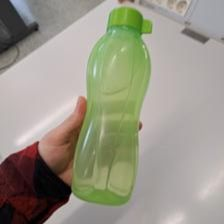bottle: (69, 5, 155, 205)
